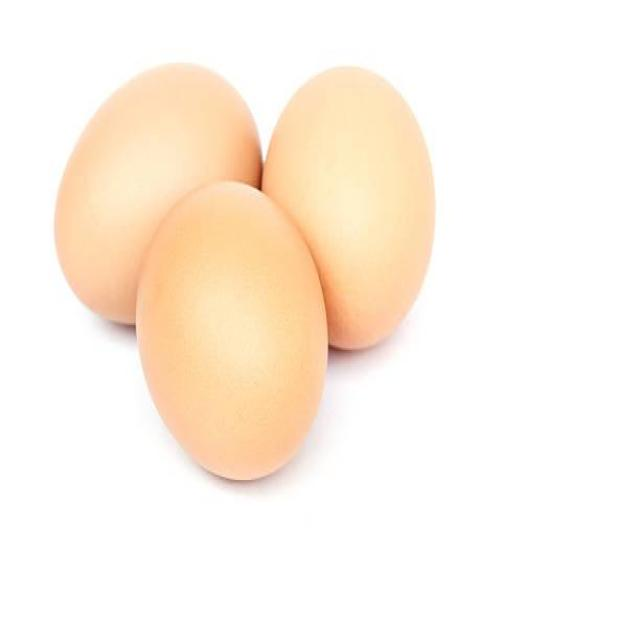Egg: (138, 182, 327, 478), (55, 64, 259, 323), (262, 67, 434, 348)
